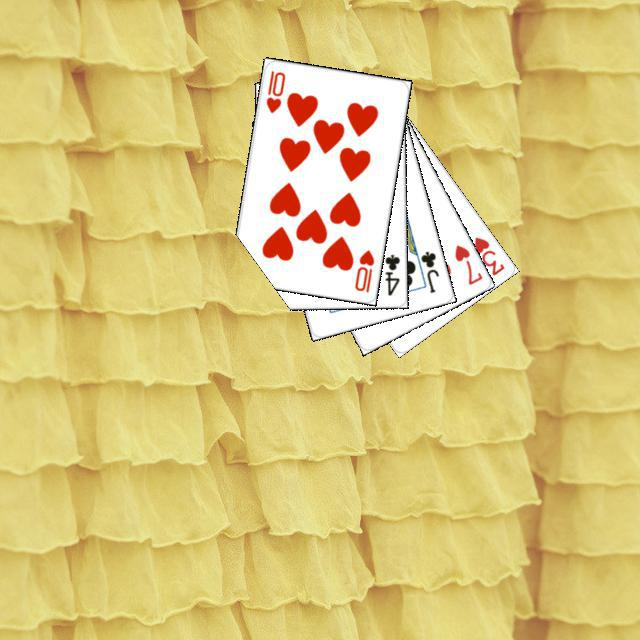10h: (261, 65, 287, 115), (350, 245, 376, 294)
3h: (469, 232, 506, 278)
4c: (380, 249, 402, 297)
7h: (449, 240, 484, 287)
Jc: (416, 246, 441, 295)
